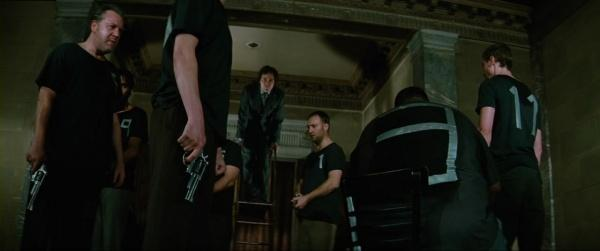Gun: (183, 147, 210, 203), (25, 160, 47, 210)
